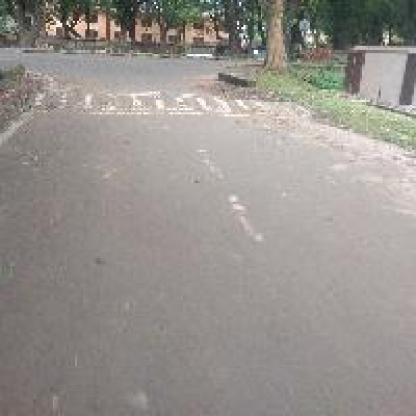Speed Bump: (33, 92, 291, 115)
